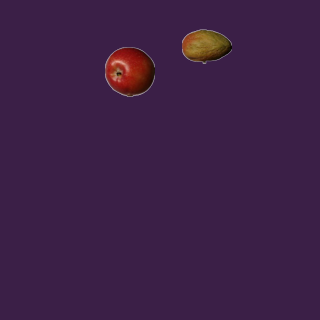Apple Braeburn: (104, 46, 154, 96)
Papaya: (181, 21, 231, 71)
